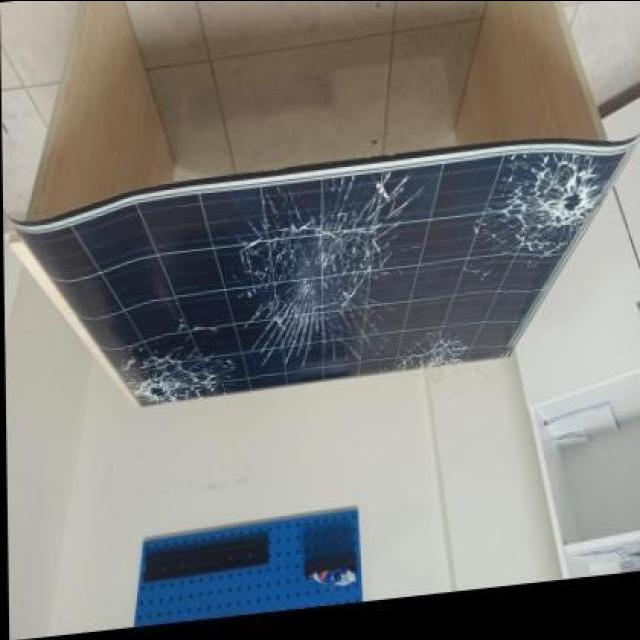cracked: (14, 145, 618, 416)
